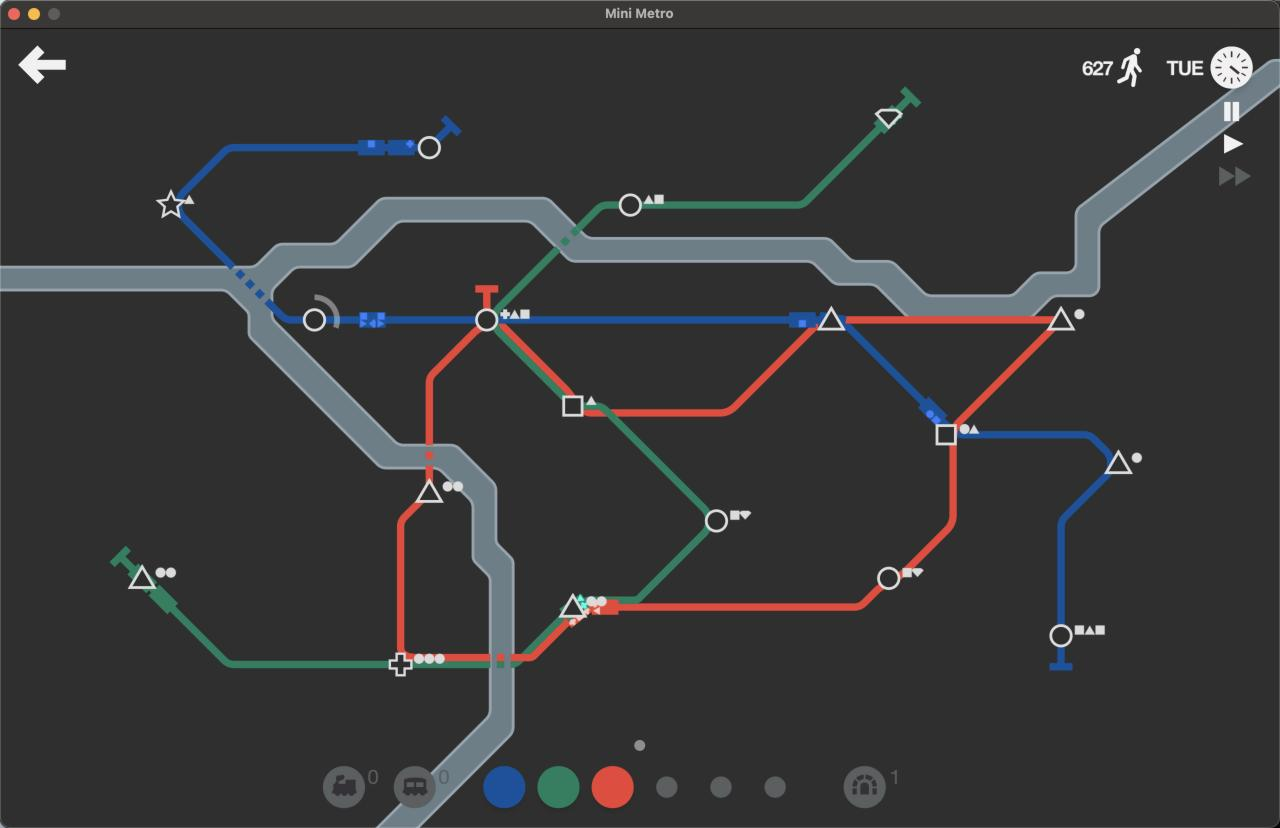CIRCLE: (417, 135, 442, 160), (474, 307, 499, 332), (1049, 623, 1074, 648), (303, 307, 327, 333), (618, 193, 643, 217), (877, 566, 901, 591), (704, 509, 728, 533)
CROSS: (388, 653, 413, 677)
DIAMOND: (874, 108, 903, 131)
SQUARE: (562, 394, 584, 417), (936, 423, 957, 446)
STAR: (156, 189, 194, 219)
TRIANGLE: (558, 592, 589, 623), (127, 563, 158, 591), (414, 478, 445, 505), (816, 305, 847, 331), (1104, 448, 1132, 475), (1049, 305, 1077, 331)
